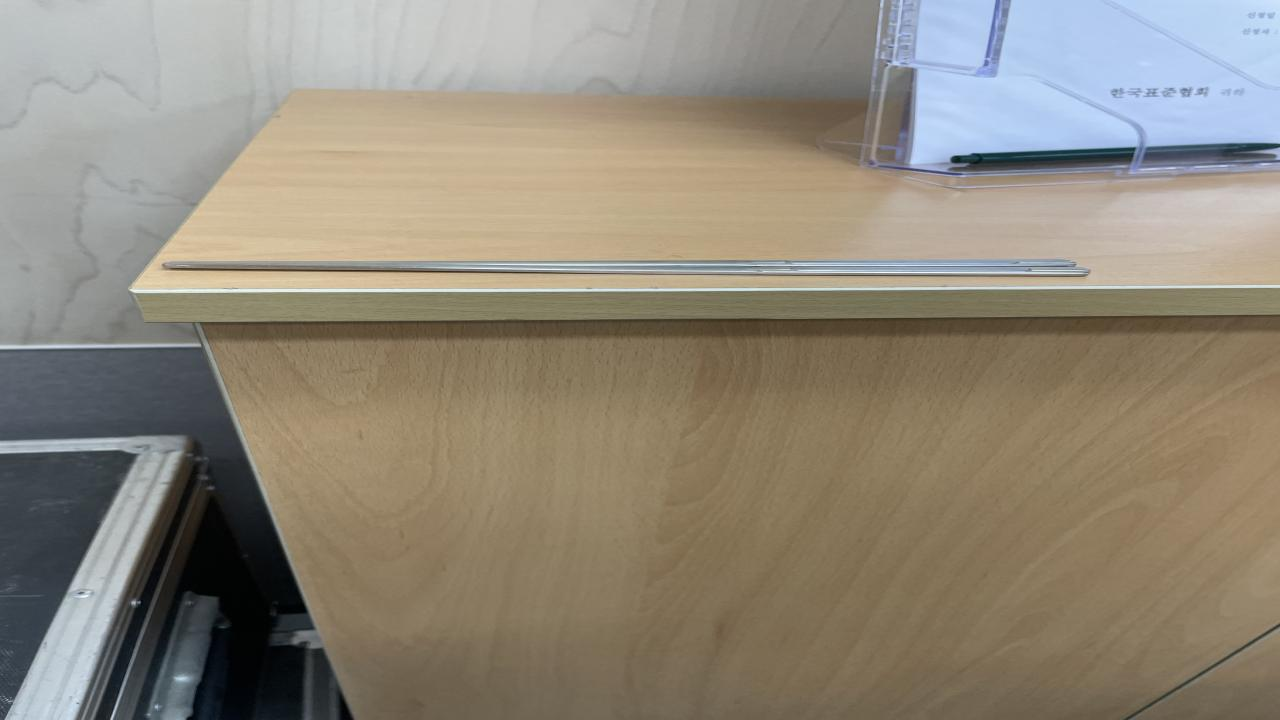chopstick: (163, 260, 1084, 277)
